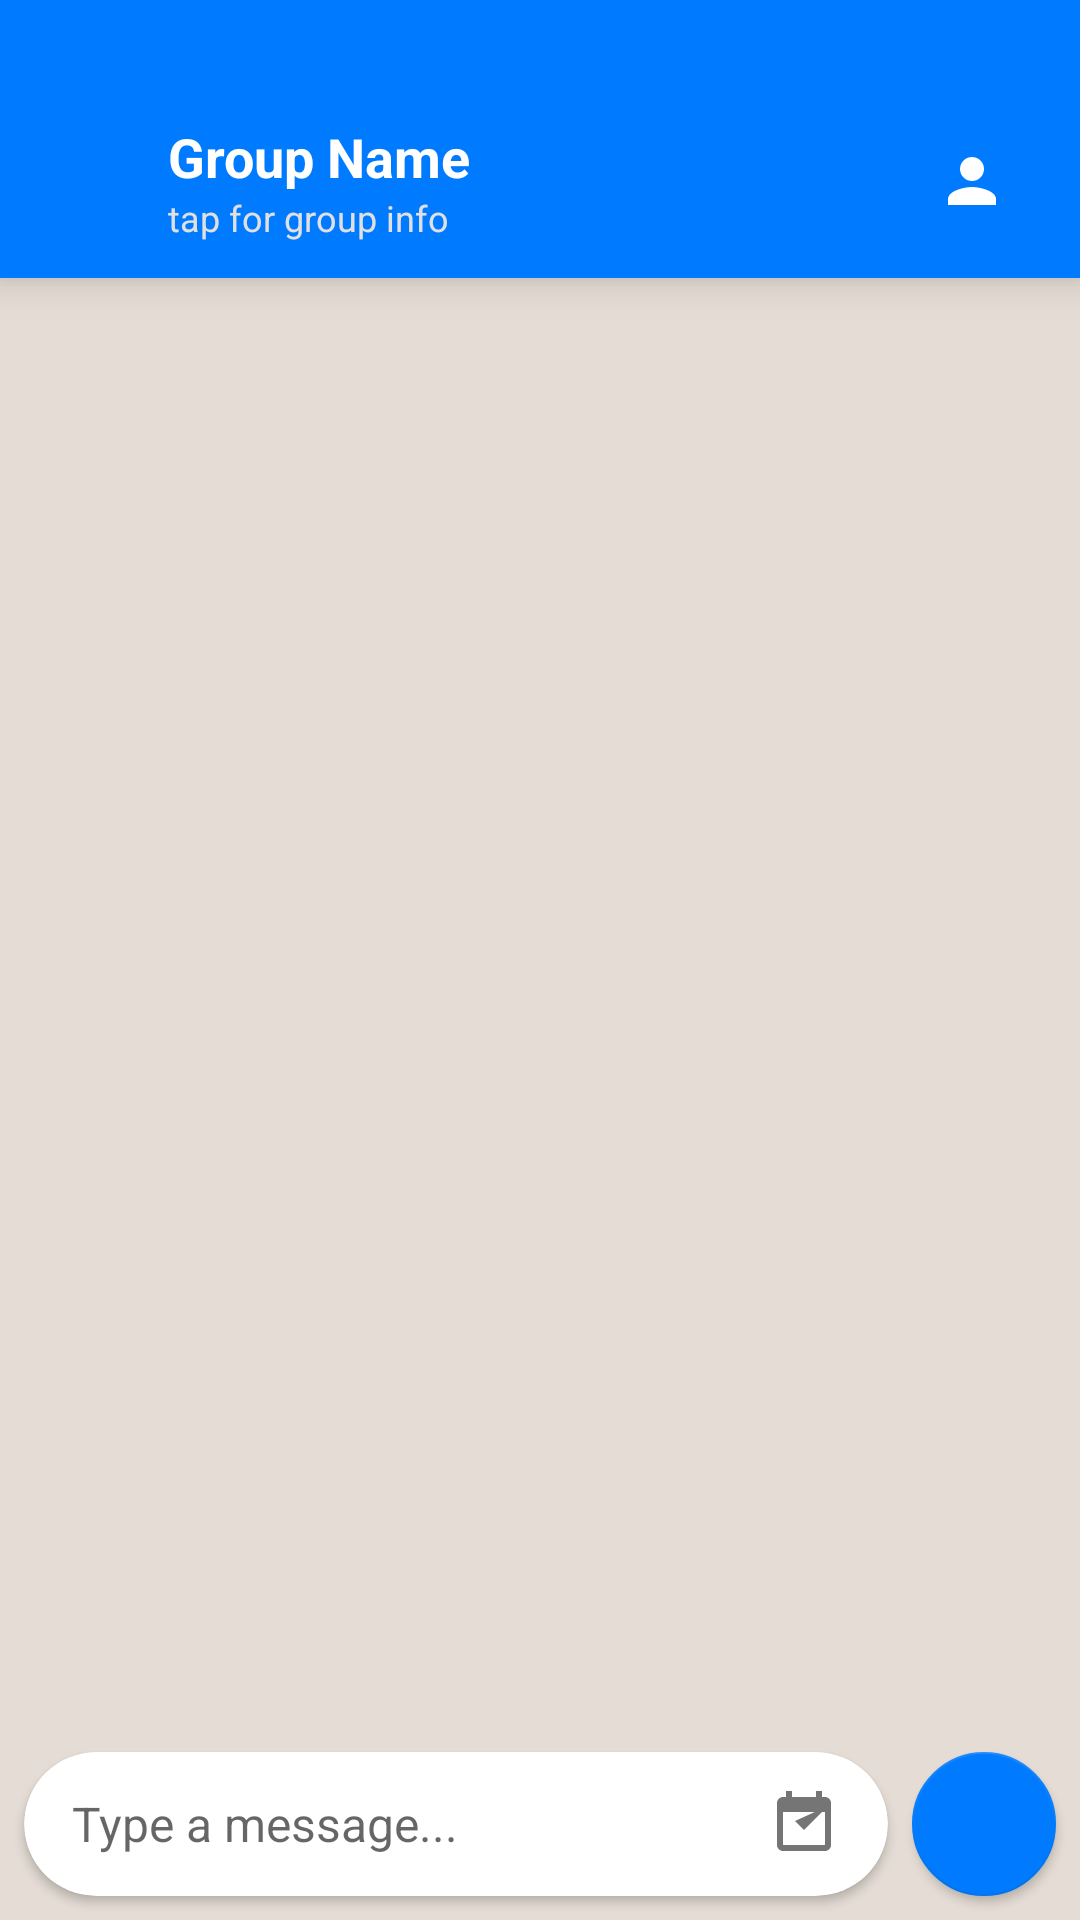

Screen size 1080px×1920px. Icon name, then its box in pixels as (x1, y1, x2, y2):
attendance: (777, 1791, 831, 1851)
profile: (948, 157, 996, 205)
